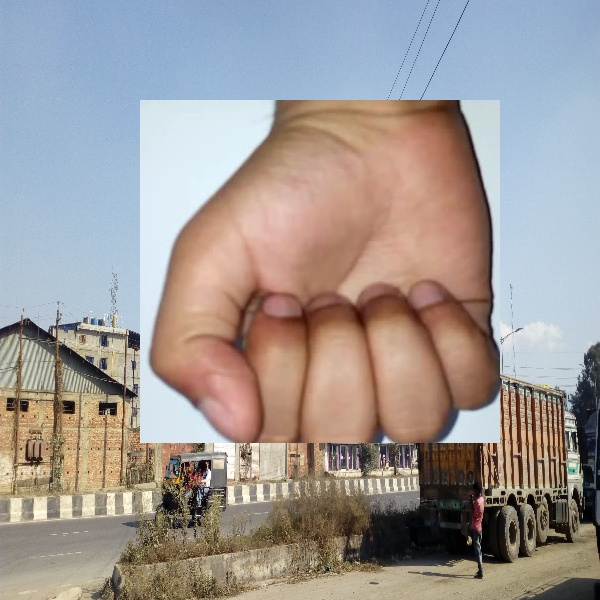A: (140, 100, 500, 443)
